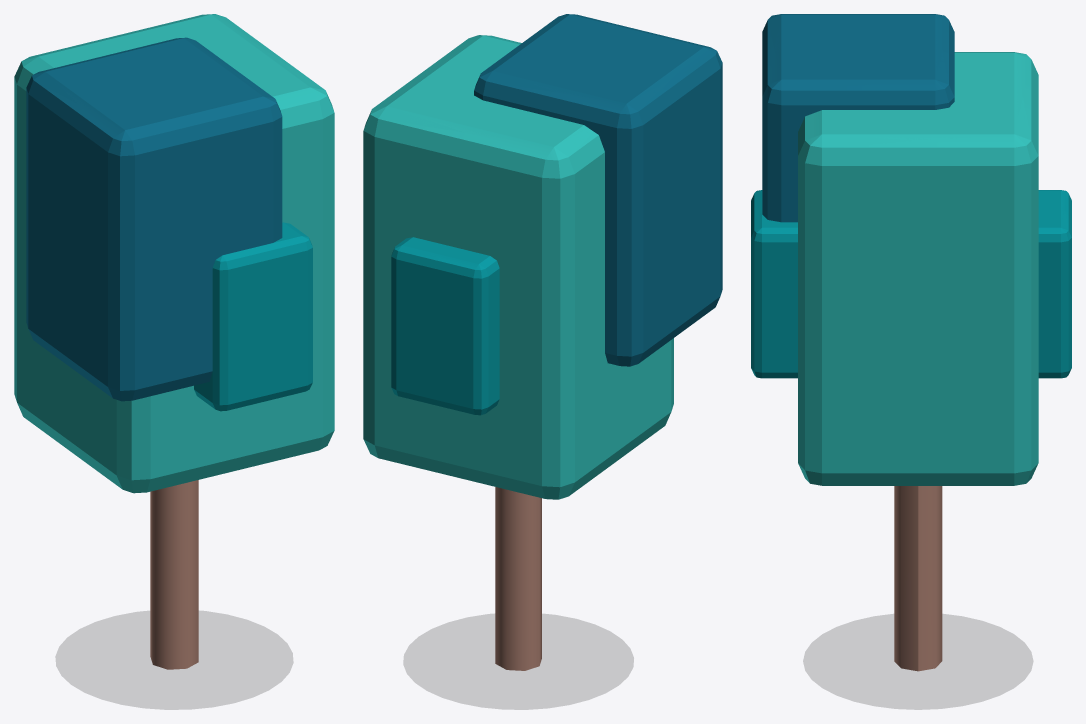
File: tree2.glb
3 renders of one model, left to right at view 1: azimuth 30°, elevation 25°; view 2: azimuth 150°, elevation 25°; view 3: azimuth 270°, elevation 25°, orthographic. The views are drawn at different scales.
Parts seen in each view (by area): view 1: leaves3, leaves1, leaves2, Circle, trunk; view 2: leaves1, leaves3, leaves2, Circle, trunk; view 3: leaves1, leaves3, Circle, leaves2, trunk.
Part boxes in pixels (x1,y1,x2,y2): leaves3: [26, 37, 282, 401]; leaves1: [14, 14, 334, 493]; leaves2: [194, 222, 312, 411]; Circle: [56, 611, 292, 709]; trunk: [150, 480, 198, 669]; leaves1: [363, 35, 673, 499]; leaves3: [474, 14, 722, 366]; leaves2: [391, 237, 499, 415]; Circle: [404, 614, 633, 709]; trunk: [495, 487, 541, 670]; leaves1: [798, 52, 1038, 485]; leaves3: [762, 14, 954, 222]; Circle: [803, 614, 1032, 709]; leaves2: [751, 190, 1071, 378]; trunk: [894, 486, 942, 671].
Size of the model in its own units: 1.14 by 2.71 by 1.33.
